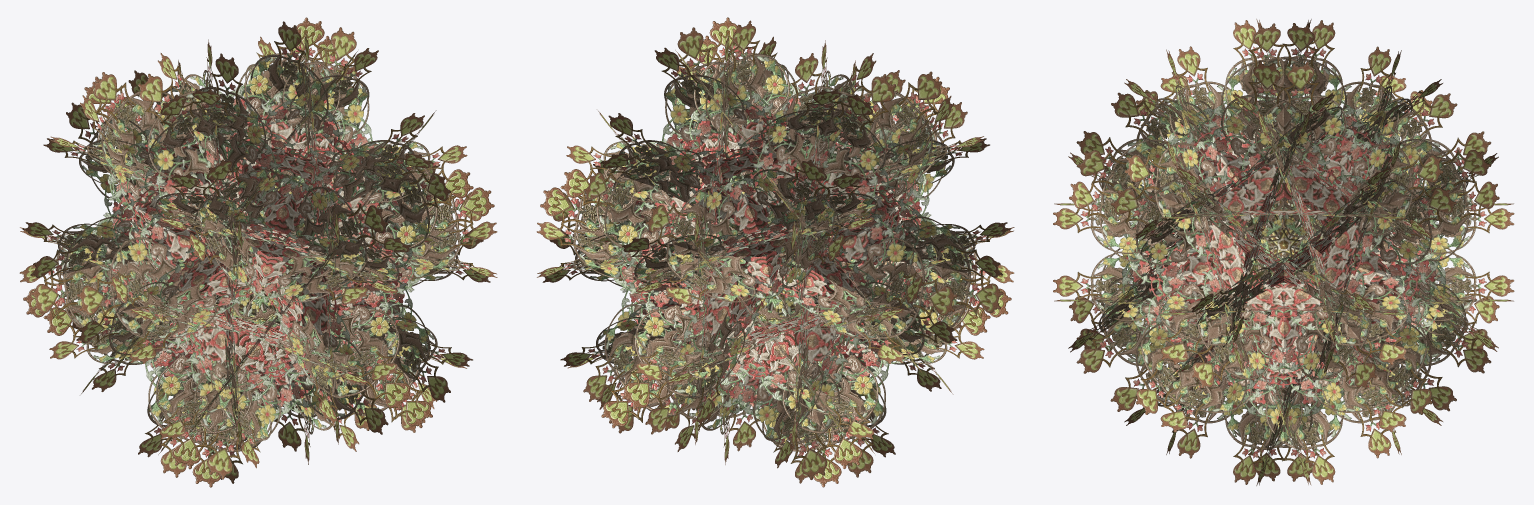
Rendered from GreatTruncatedIcosidodecahedron8.gltf.
3 views of the same model, side by side, from view 1: azimuth 30°, elevation 25°; view 2: azimuth 150°, elevation 25°; view 3: azimuth 270°, elevation 25° (orthographic). The views are drawn at different scales.
Visible parts, largest first — view 1: GreatTruncatedIcosidodecahedron; view 2: GreatTruncatedIcosidodecahedron; view 3: GreatTruncatedIcosidodecahedron.
Part boxes in pixels (x1,y1,x2,y2): GreatTruncatedIcosidodecahedron: [19, 17, 497, 487]; GreatTruncatedIcosidodecahedron: [536, 17, 1014, 487]; GreatTruncatedIcosidodecahedron: [1053, 19, 1514, 485].
Size of the model in its own units: 2 by 2 by 2.
Materials: 1 (1 with a texture image).
